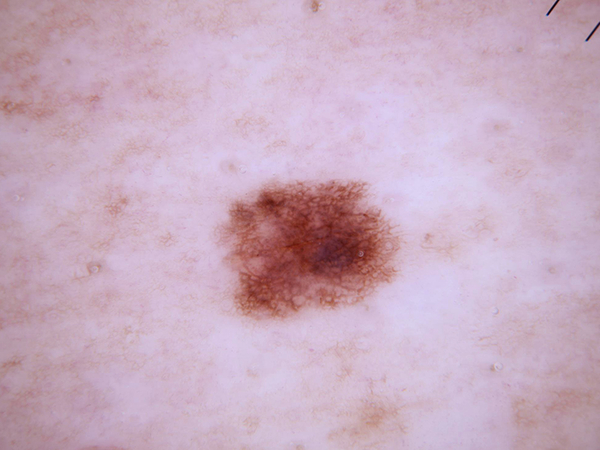Color changes: (294, 253, 334, 294)
